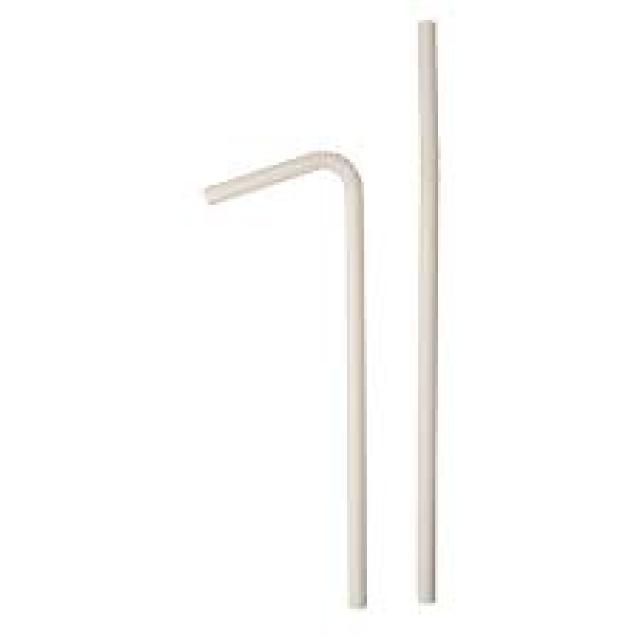straw: (205, 151, 365, 607), (418, 21, 438, 602)
